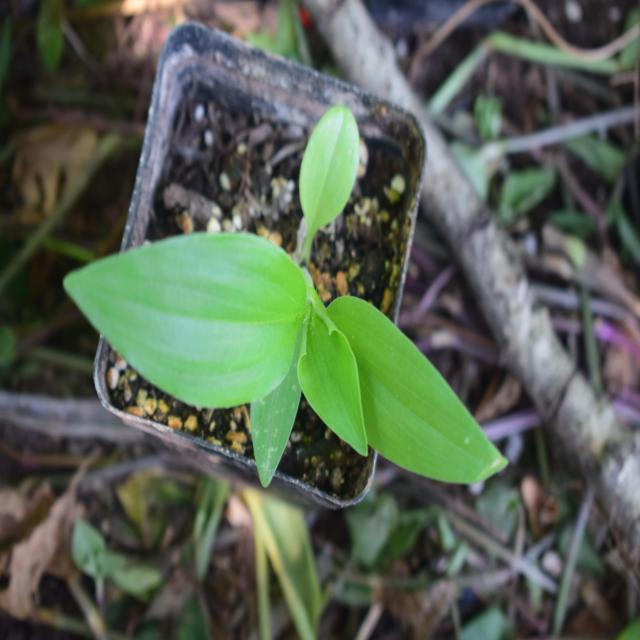Common Dayflower: (73, 178, 485, 509)
